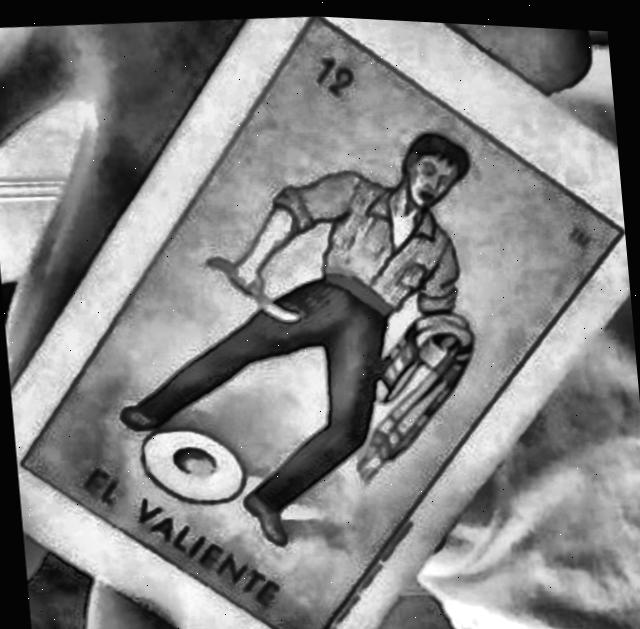El Valiente: (25, 13, 624, 629)
